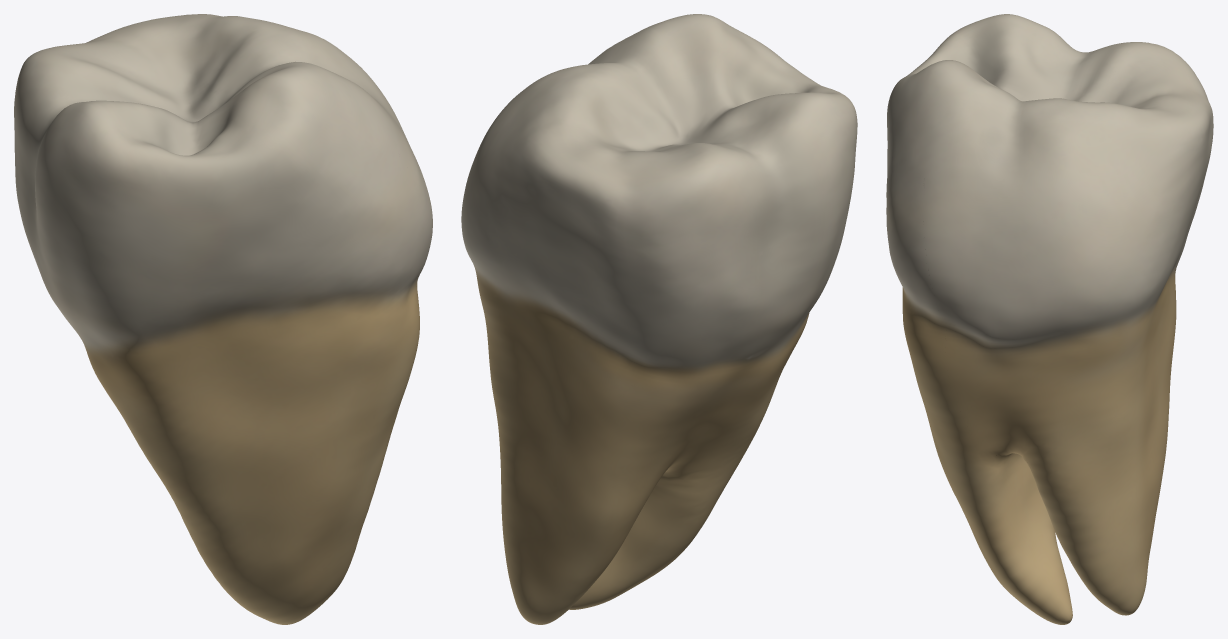
The model's file is mandibular_third_molar.glb.
3 renders of one model, left to right at view 1: azimuth 30°, elevation 25°; view 2: azimuth 150°, elevation 25°; view 3: azimuth 270°, elevation 25°, orthographic. The views are drawn at different scales.
Parts seen in each view (by area): view 1: Object_2; view 2: Object_2; view 3: Object_2.
Part boxes in pixels (x1,y1,x2,y2): Object_2: [14, 14, 432, 624]; Object_2: [461, 14, 857, 624]; Object_2: [886, 14, 1213, 624].
Size of the model in its own units: 0.9727 by 1.53 by 0.8585.
1 material, 1 textured.
